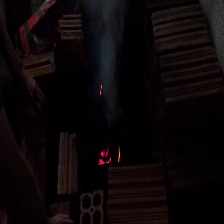smoke: (90, 8, 120, 105)
